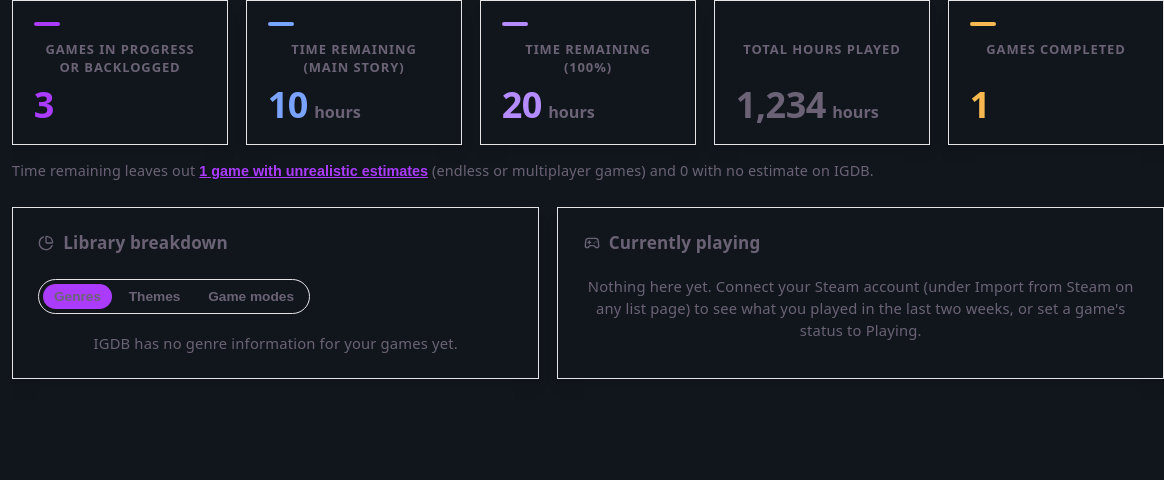
Test: Dashboard › shows a dash, not "0 hours", when IGDB has no 100% estimate for a left-out game
This screenshot has width=1164, height=480.
Click the button "1 game with unrealistic estimates": {"x": 314, "y": 171} [199, 163, 428, 179]
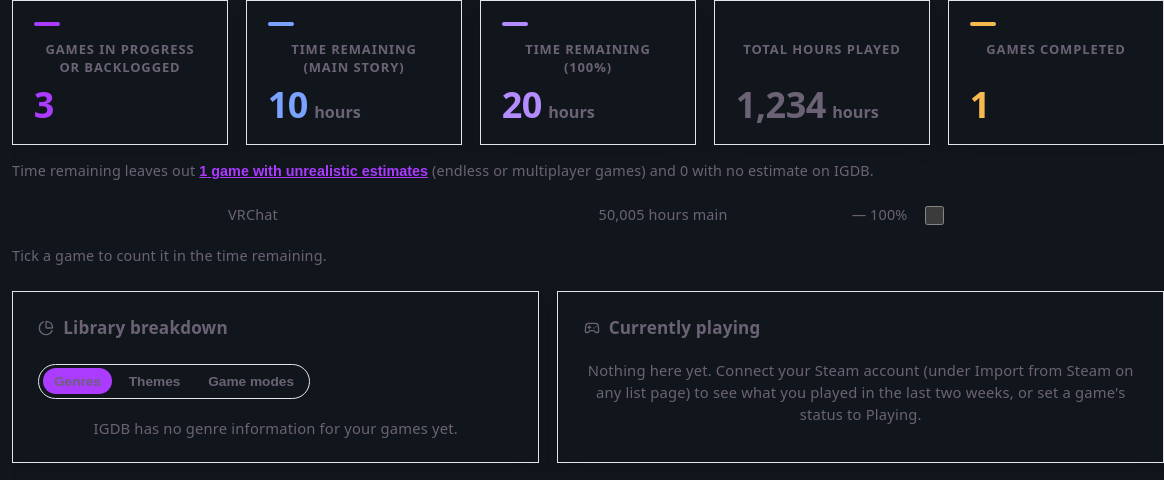
Result: the text "VRChat" shows "— 100%" at [228, 205, 944, 225]
Result: the text "VRChat" shows "50,005 hours main" at [228, 205, 944, 225]
